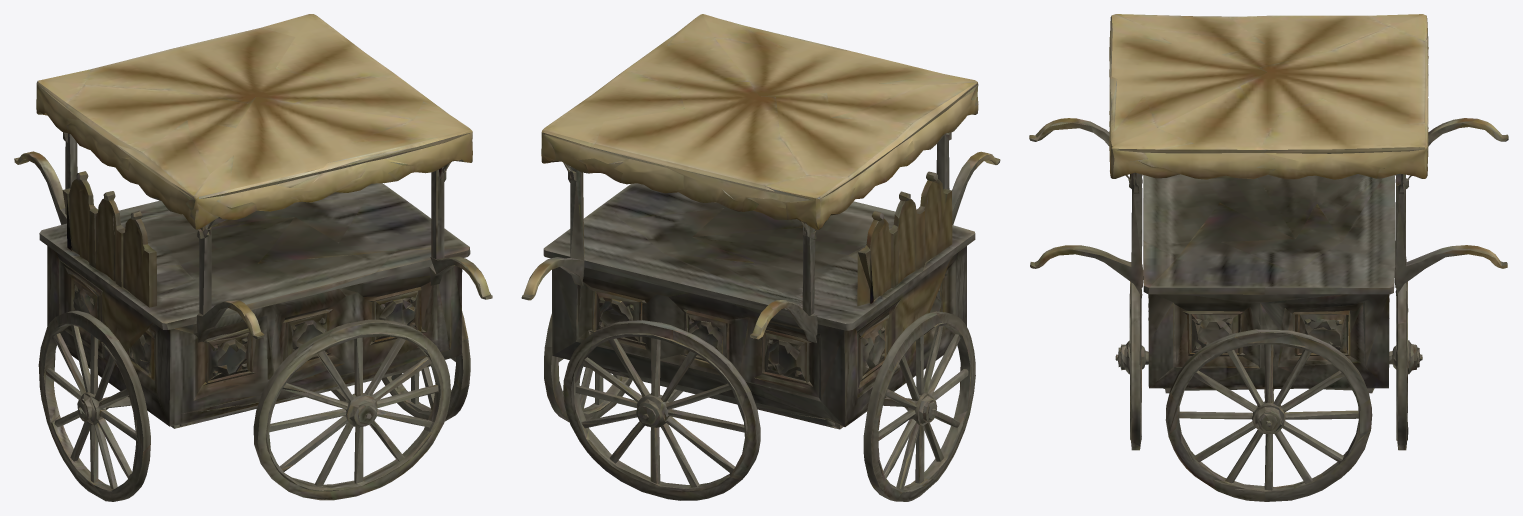
Rendered from prop_cart.glb.
The picture shows the model from 3 angles, left to right: view 1: azimuth 30°, elevation 25°; view 2: azimuth 150°, elevation 25°; view 3: azimuth 270°, elevation 25°; orthographic projection.
Size of the model in its own units: 1.58 by 1.53 by 1.9.
Materials: 1 (1 with a texture image).
